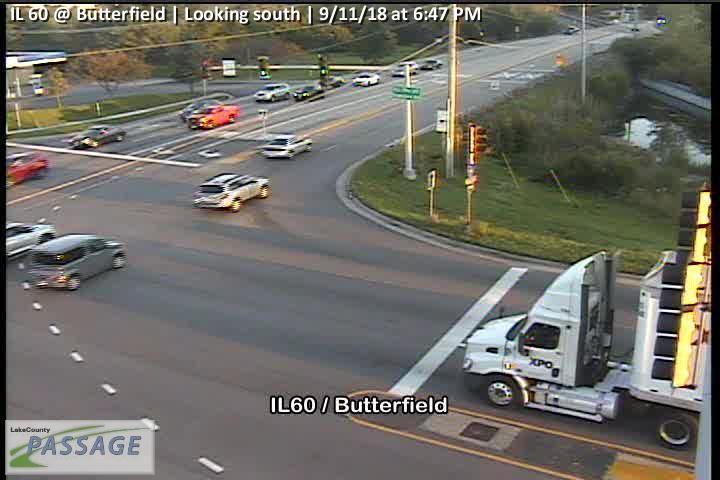SUV: (31, 236, 127, 292), (192, 173, 273, 213), (184, 103, 241, 133), (257, 83, 293, 104)
Sedan: (1, 221, 56, 263), (1, 151, 51, 193), (65, 125, 126, 149), (264, 135, 315, 161), (177, 95, 228, 121), (292, 87, 326, 103), (354, 72, 380, 86), (395, 62, 419, 77), (418, 60, 443, 71)
Truck: (459, 248, 720, 451)
